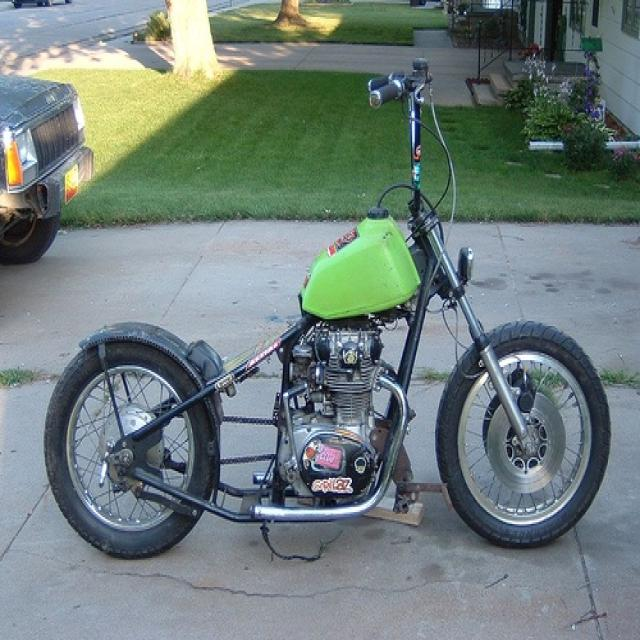car: (0, 73, 93, 264)
motorbike: (43, 60, 612, 558)
